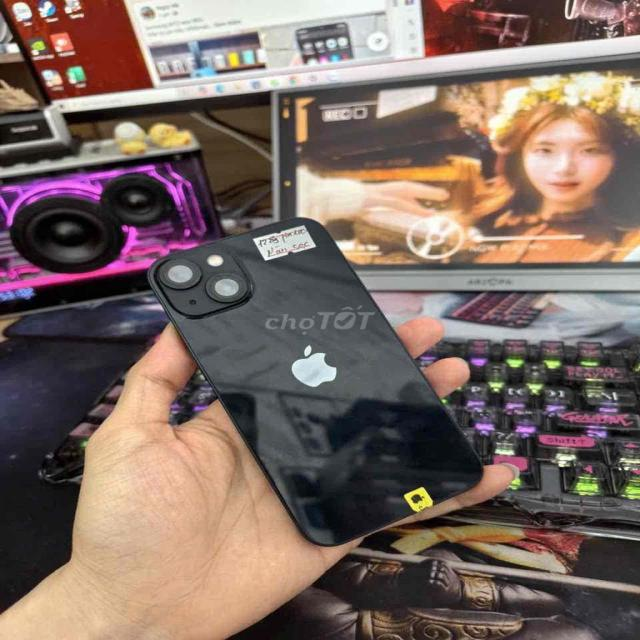gen_12_13: (143, 216, 483, 552)
